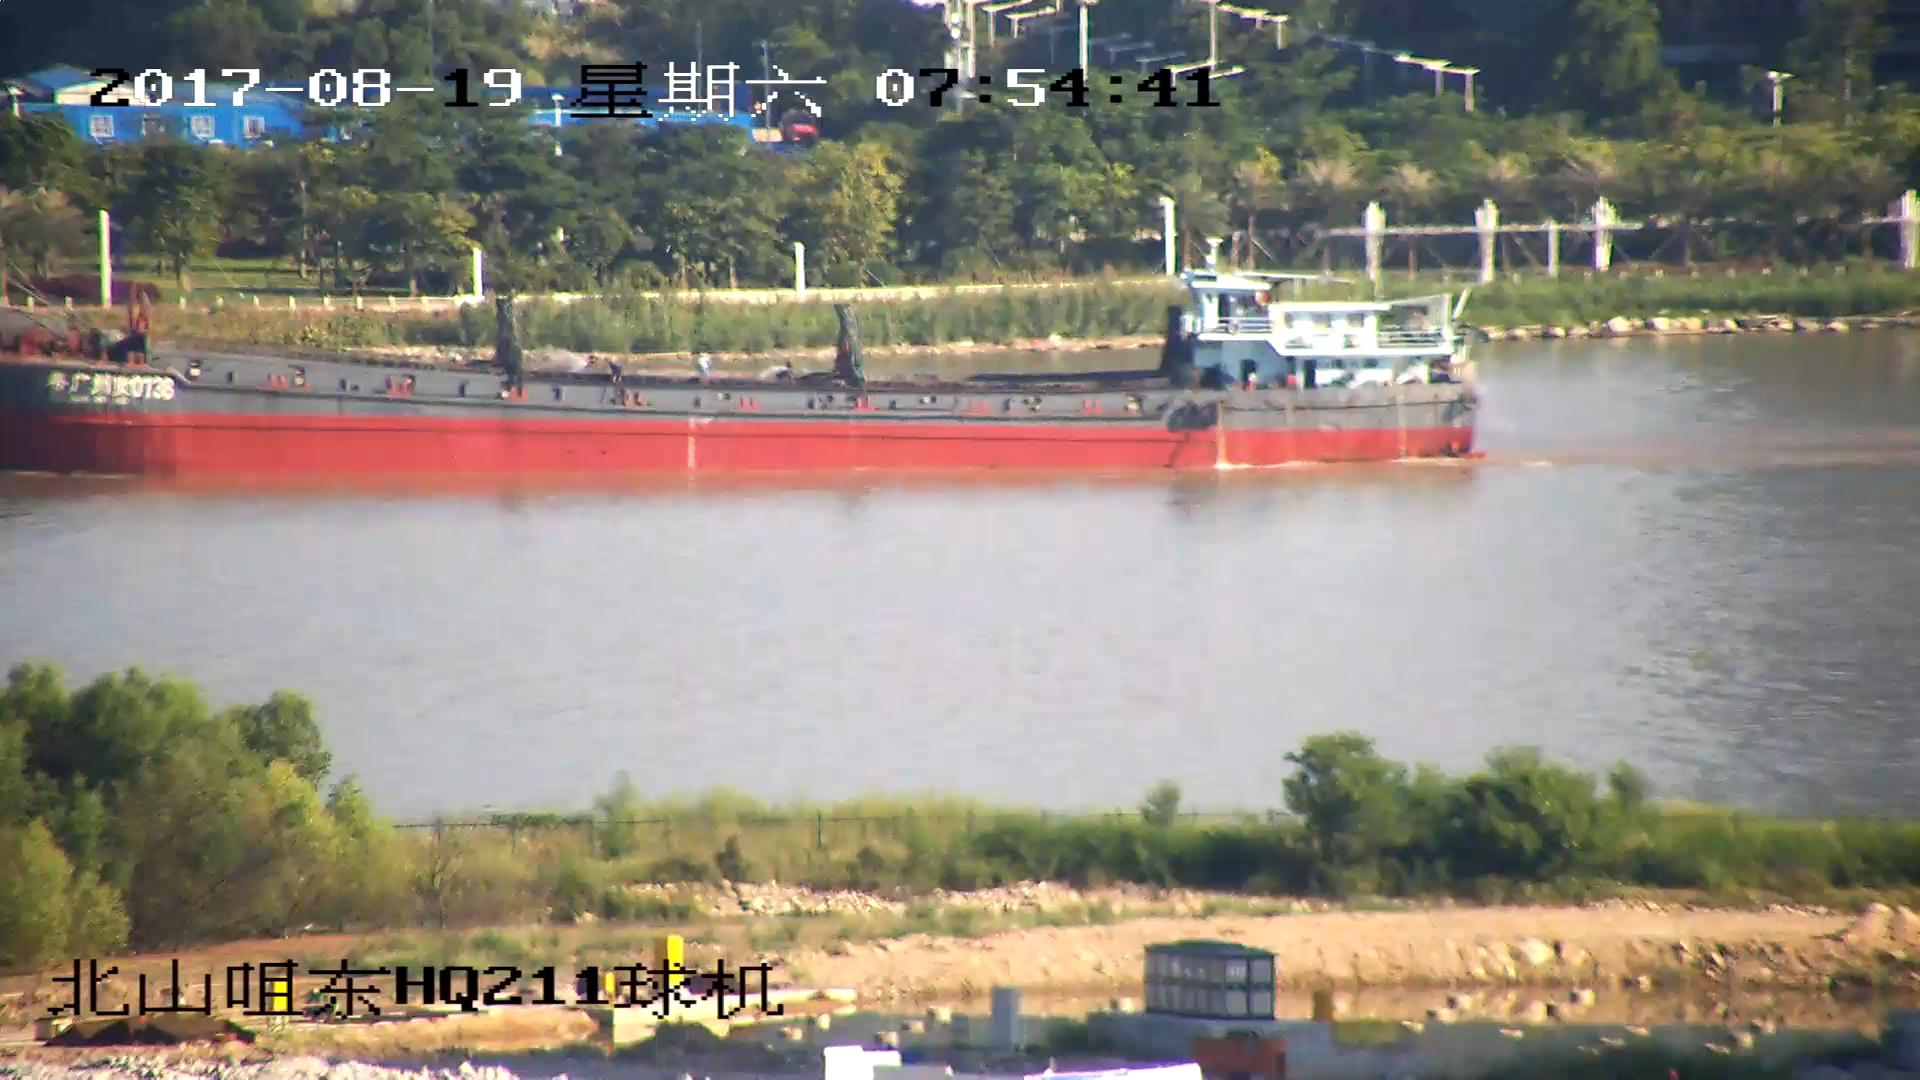bulk cargo carrier: (1, 247, 1489, 474)
